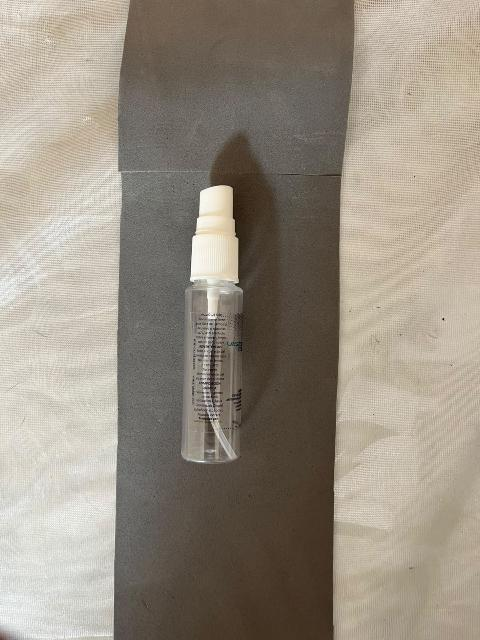PET: (151, 155, 287, 489)
